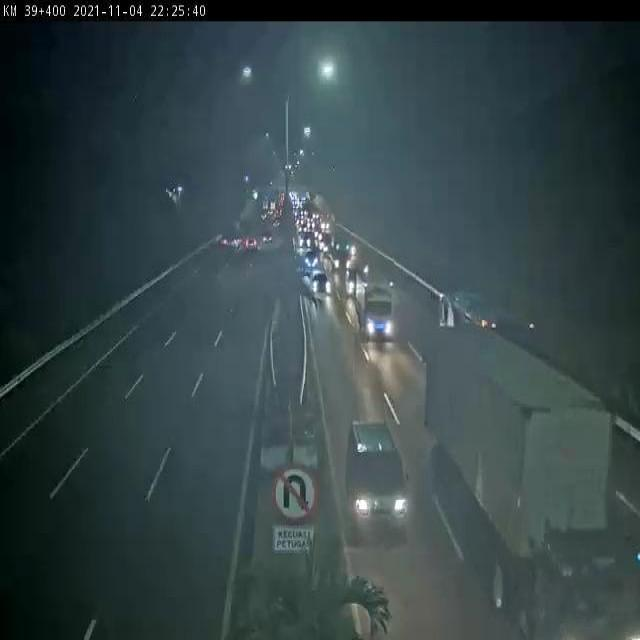bus-l-: (435, 288, 527, 325)
car: (344, 421, 410, 539), (243, 231, 263, 257), (311, 265, 329, 292)
truck-m-: (349, 277, 396, 340)
truck-xl-: (426, 329, 629, 640)
